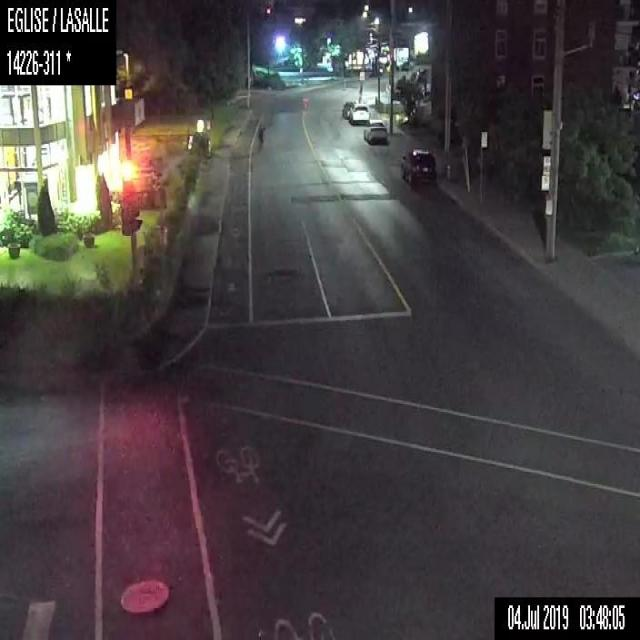cyclist: (256, 122, 266, 149)
vehicle: (398, 145, 436, 187), (362, 119, 387, 142), (350, 104, 370, 123), (340, 101, 359, 116)
